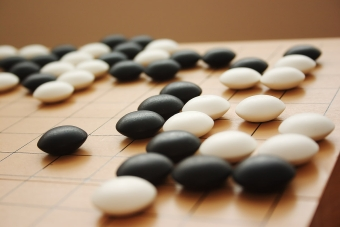black: (172, 154, 233, 191), (37, 125, 88, 157), (115, 109, 165, 139), (138, 94, 184, 120), (159, 81, 203, 104), (145, 59, 181, 80), (283, 44, 321, 61)
crossing: (6, 148, 23, 161), (323, 100, 335, 110)
white: (89, 176, 158, 218), (234, 94, 288, 124), (163, 111, 215, 141), (262, 67, 307, 91), (220, 67, 262, 91), (33, 81, 75, 104)
